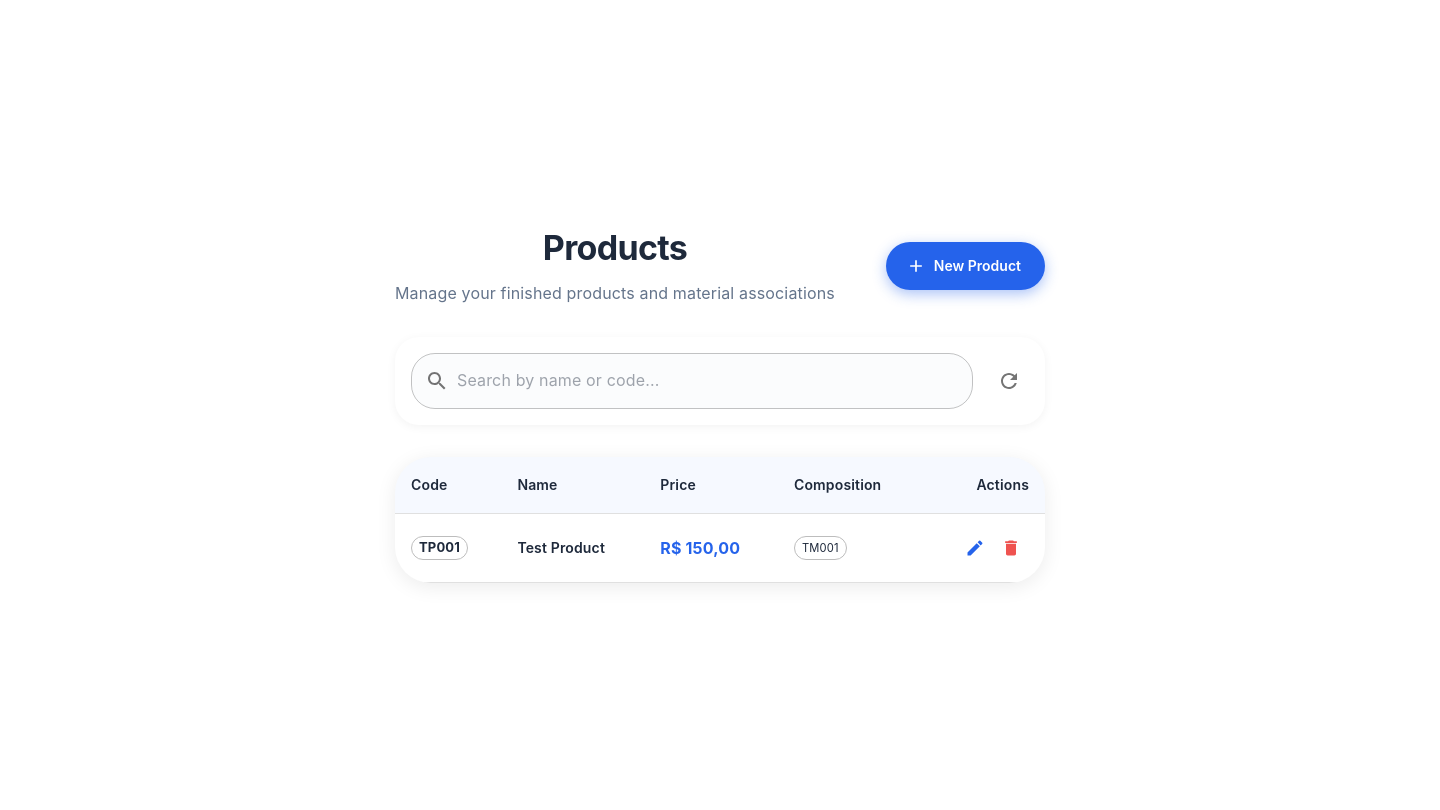
ProductsPage › opens delete confirmation dialog and confirms deletion
The width and height of the screenshot is (1440, 810).
Expected: the text "Test Product" is shown, [501,513,644,582]
Click the button with test id "DeleteIcon": (1011, 548) [993,530,1029,566]
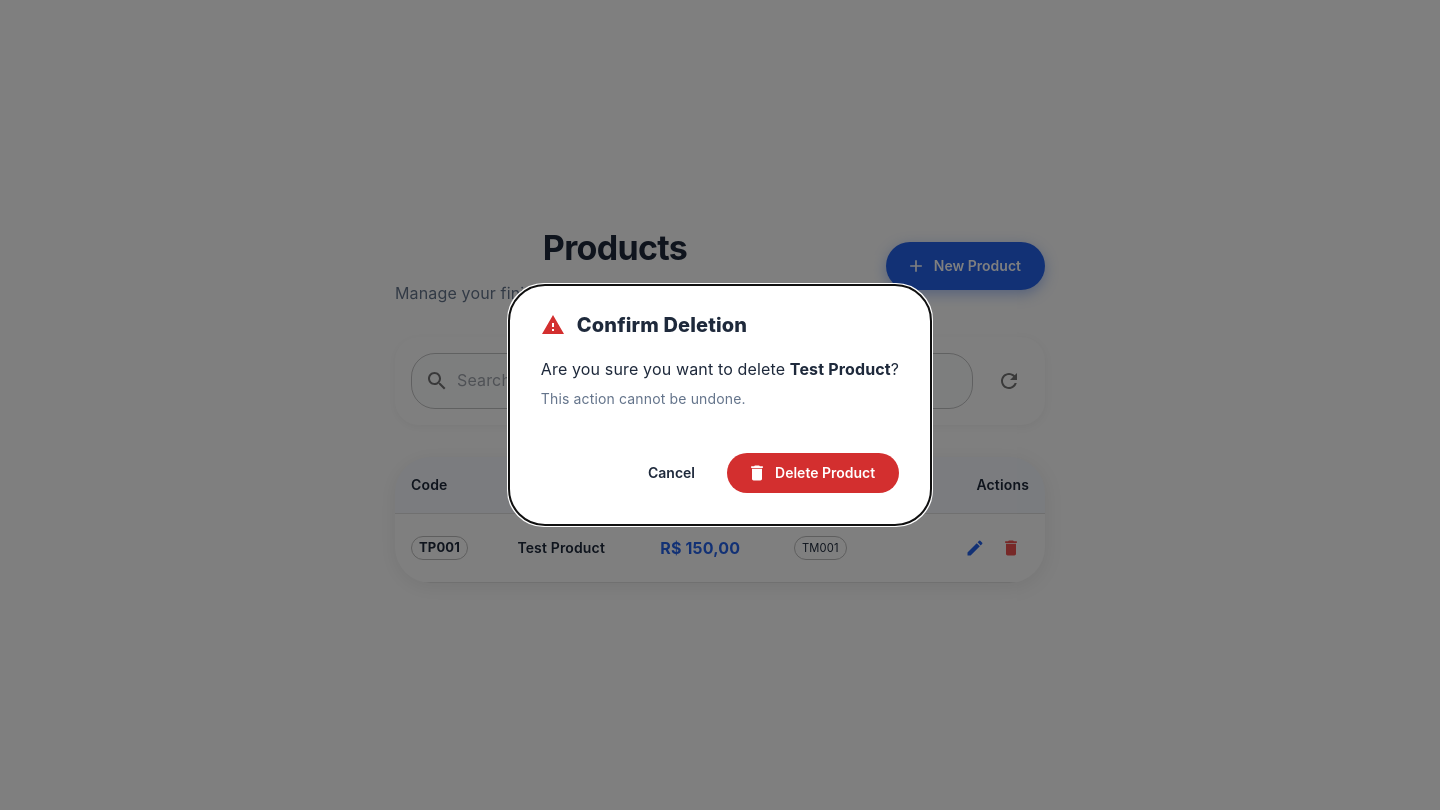
Result: the heading "Confirm Deletion" is shown at [541,313,747,337]
Result: the text "Test Product" is shown at [790,359,891,379]
Click the button "Delete Product": (813, 473) [727,453,899,493]
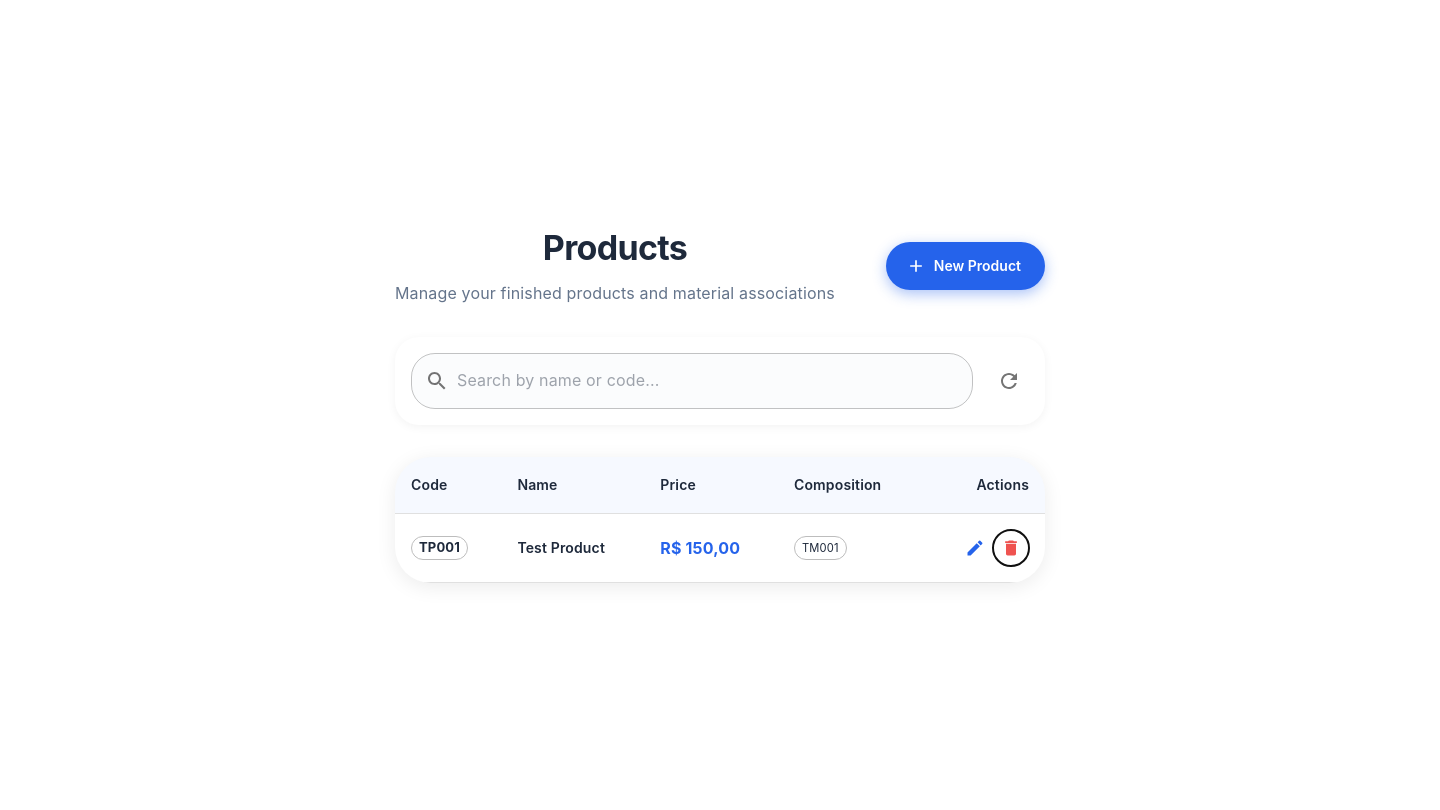
Result: the dialog is gone
